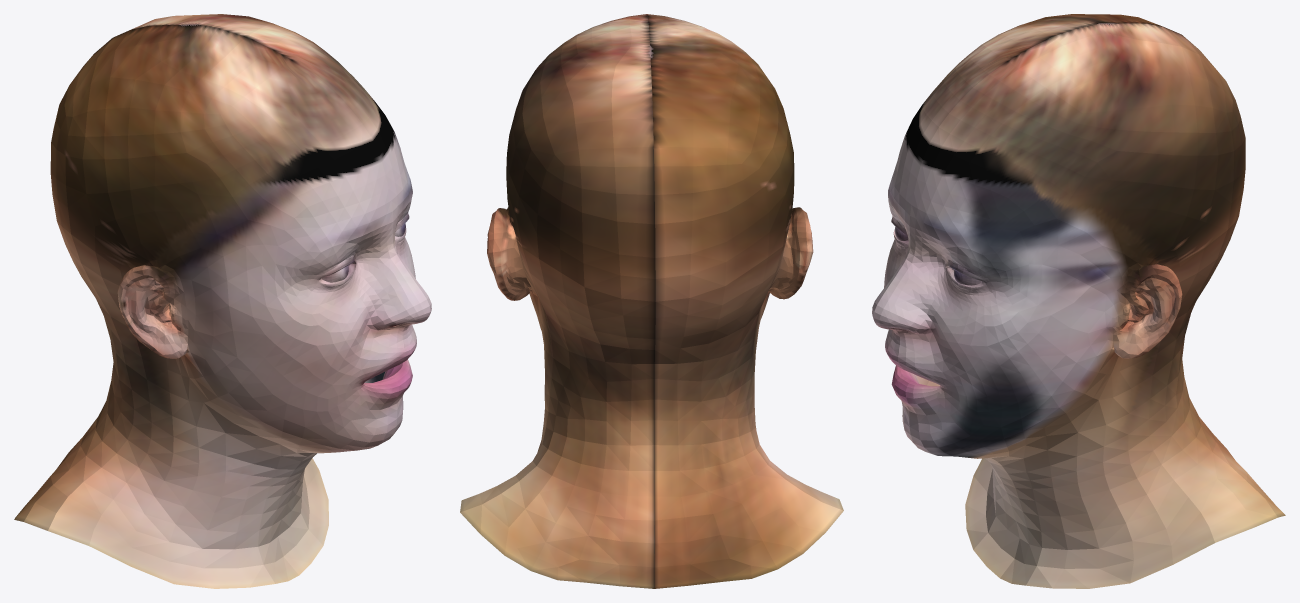
File: cheo1_frame0004.obj
3 renders of one model, left to right at view 1: azimuth 30°, elevation 25°; view 2: azimuth 150°, elevation 25°; view 3: azimuth 270°, elevation 25°, orthographic.
Bounding box in the file's own units: 0.213 × 0.3204 × 0.2267.
1 material, 1 textured.
